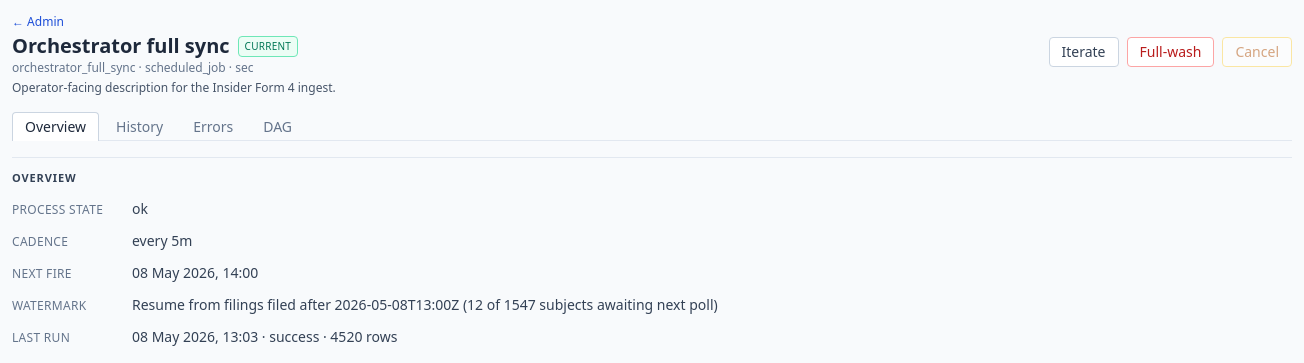
ProcessDetailPage — DAG tab (orchestrator_full_sync) › renders 'no recent run' when /dag returns null sync_run
The image size is (1304, 363).
Step 1. Click the tab "DAG" → (278, 126), box [250,112,305,141]
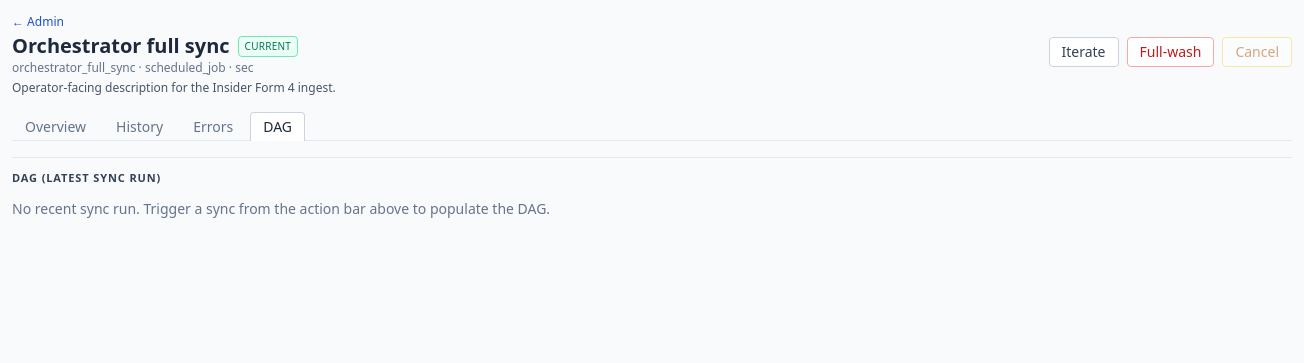
Expected: the text "No recent sync run" is shown, [12,198,550,218]
